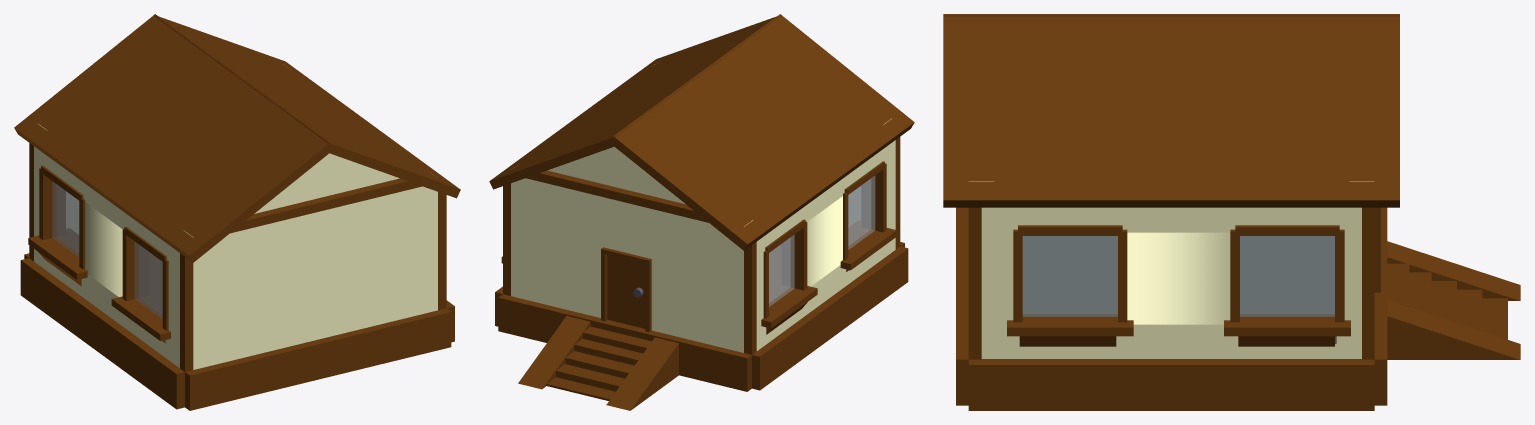
The model's file is pho-nha-nen-7.glb.
The picture shows the model from 3 angles, left to right: view 1: azimuth 30°, elevation 25°; view 2: azimuth 150°, elevation 25°; view 3: azimuth 270°, elevation 25°; orthographic projection. The views are drawn at different scales.
Parts seen in each view (by area): view 1: pho-nha-nen-7; view 2: pho-nha-nen-7; view 3: pho-nha-nen-7.
Boxes of the visible parts, x1,y1,x2,y2 form: pho-nha-nen-7: (14, 14, 460, 410); pho-nha-nen-7: (489, 14, 914, 410); pho-nha-nen-7: (943, 14, 1520, 410).
Size of the model in its own units: 33.5 by 27.08 by 45.5.
